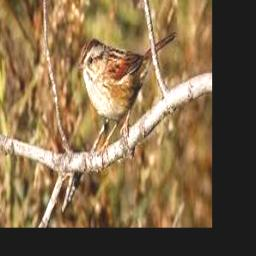Sparrow: (77, 33, 175, 167)
